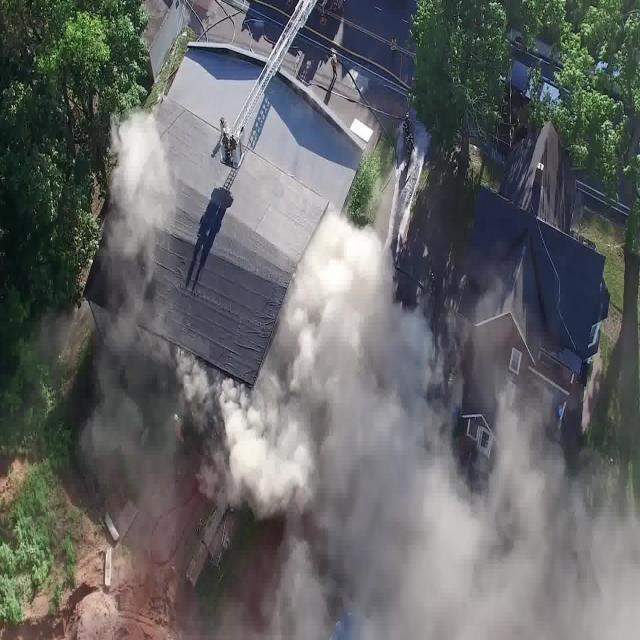Smoke: (183, 123, 640, 640)
